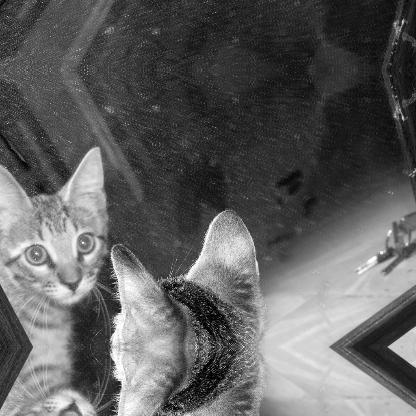Cat: (90, 206, 268, 346), (0, 143, 117, 345), (89, 346, 269, 415), (0, 347, 117, 415)
